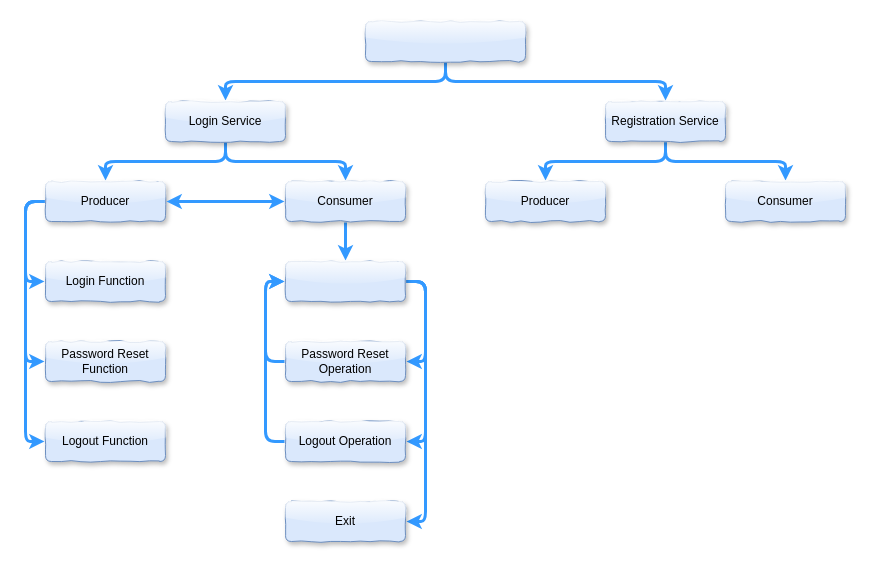
Some shapes in this 869 by 566 pixel diagram are drawn without their labels. The centre of each missing label's shape, as x and y in pixels:
Login & Registration Service: the point at 446,42
Login Operation: the point at 346,282
